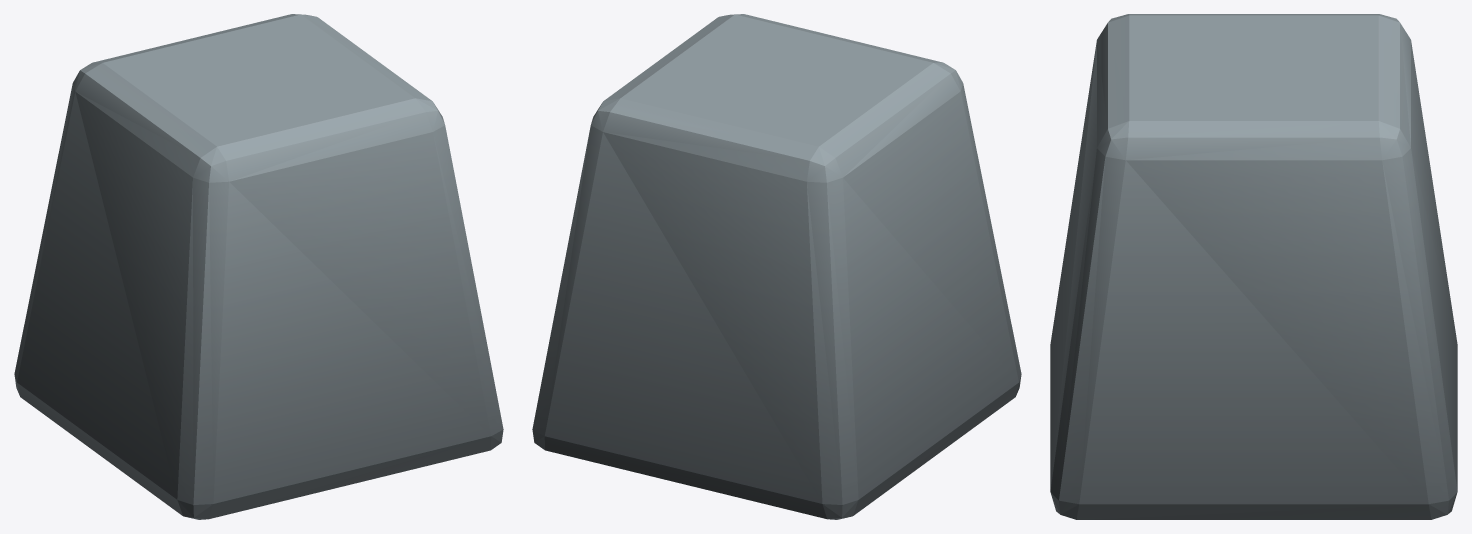
File: kf_rock_2_d.fbx
The picture shows the model from 3 angles, left to right: view 1: azimuth 30°, elevation 25°; view 2: azimuth 150°, elevation 25°; view 3: azimuth 270°, elevation 25°; orthographic projection. The views are drawn at different scales.
Visible parts, largest first — view 1: kf_rock_2_d; view 2: kf_rock_2_d; view 3: kf_rock_2_d.
Boxes of the visible parts, box(x1,y1,x2,y2) form: kf_rock_2_d: box(14, 14, 503, 519); kf_rock_2_d: box(532, 14, 1021, 519); kf_rock_2_d: box(1050, 14, 1457, 519).
Bounding box in the file's own units: 4.1 × 4.18 × 4.1.
